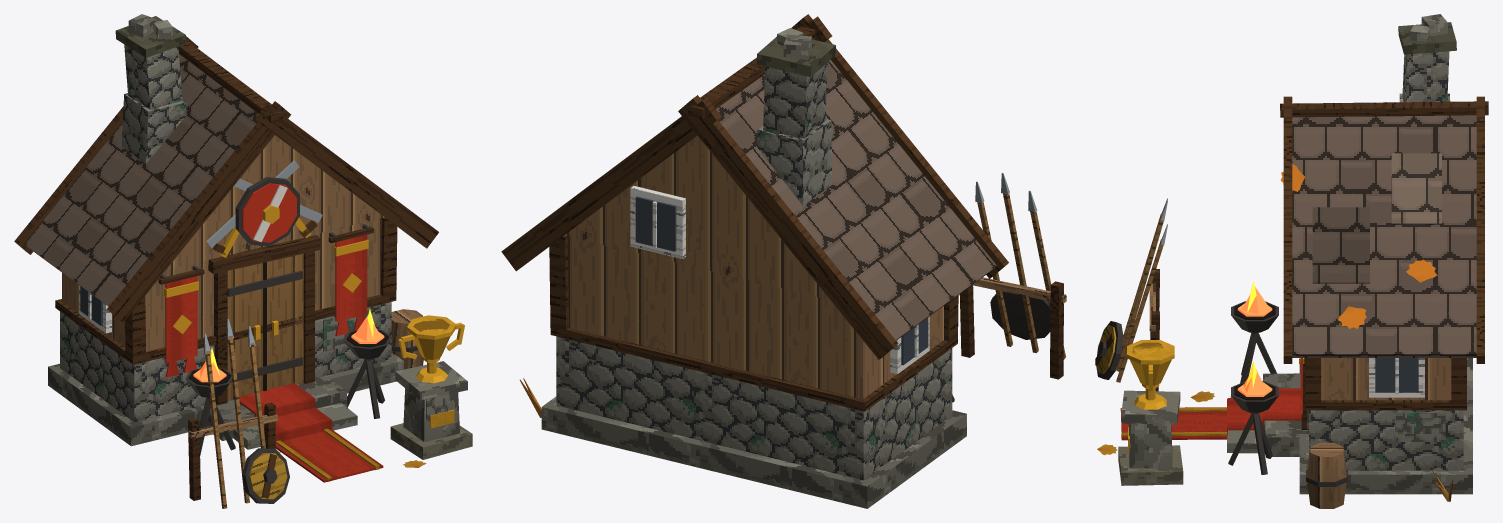
File: hero_hall.glb
The picture shows the model from 3 angles, left to right: view 1: azimuth 30°, elevation 25°; view 2: azimuth 150°, elevation 25°; view 3: azimuth 270°, elevation 25°; orthographic projection. The views are drawn at different scales.
Visible parts, largest first — view 1: hero_hall, sway_banner_1, sway_banner_2, glow_fire_2; view 2: hero_hall; view 3: hero_hall, glow_fire_1, glow_fire_2.
Boxes of the visible parts, <box> form: hero_hall: <box>14,14,472,508</box>; sway_banner_1: <box>158,268,204,377</box>; sway_banner_2: <box>328,226,373,335</box>; glow_fire_2: <box>351,309,384,343</box>; hero_hall: <box>501,14,1066,508</box>; hero_hall: <box>1095,14,1488,508</box>; glow_fire_1: <box>1237,280,1272,316</box>; glow_fire_2: <box>1237,361,1272,396</box>.
Bounding box in the file's own units: 5.57 × 5.78 × 5.47.
Materials: 34 (19 with a texture image).
